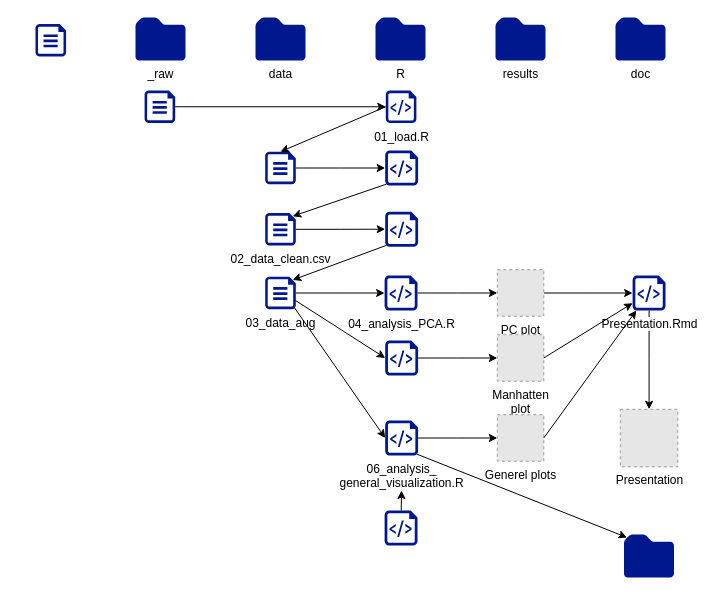
This 714x615 diagram has some shape labels left out. Grey dashed boxes stand in for pictures. Each missing label, with the box of its shape:
01_data_load.csv: (265, 151, 295, 184)
02_clean.R: (385, 150, 418, 185)
03_augment.R: (385, 211, 418, 246)
05_analysis_ LogisticRegression.R: (385, 340, 418, 375)
99_proj_func.R: (384, 510, 417, 545)
App: (624, 534, 674, 577)
raw_data.csv: (144, 90, 175, 122)
README.txt: (35, 24, 66, 56)
